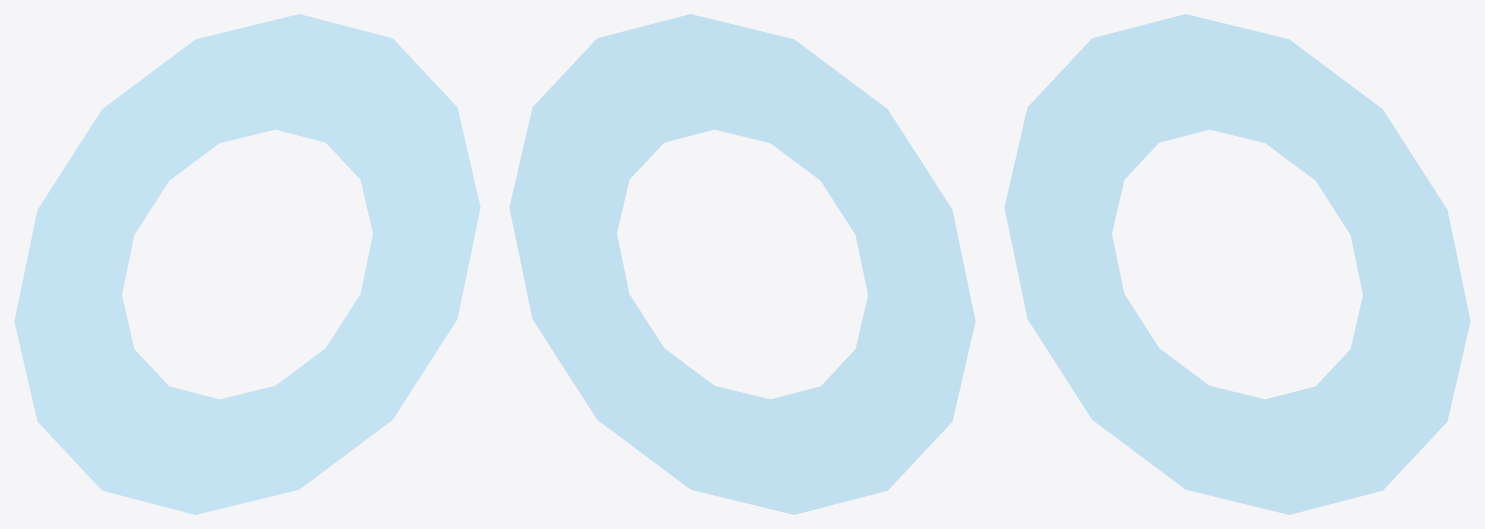
Rendered from retro_glow.glb.
3 renders of one model, left to right at view 1: azimuth 30°, elevation 25°; view 2: azimuth 150°, elevation 25°; view 3: azimuth 330°, elevation 25°, orthographic.
Visible parts, largest first — view 1: retro_glow; view 2: retro_glow; view 3: retro_glow.
Boxes of the visible parts, x1,y1,x2,y2 form: retro_glow: (14,14,480,514); retro_glow: (509,14,975,514); retro_glow: (1004,14,1470,514).
Bounding box in the file's own units: 0.13 × 0.1267 × 0.
